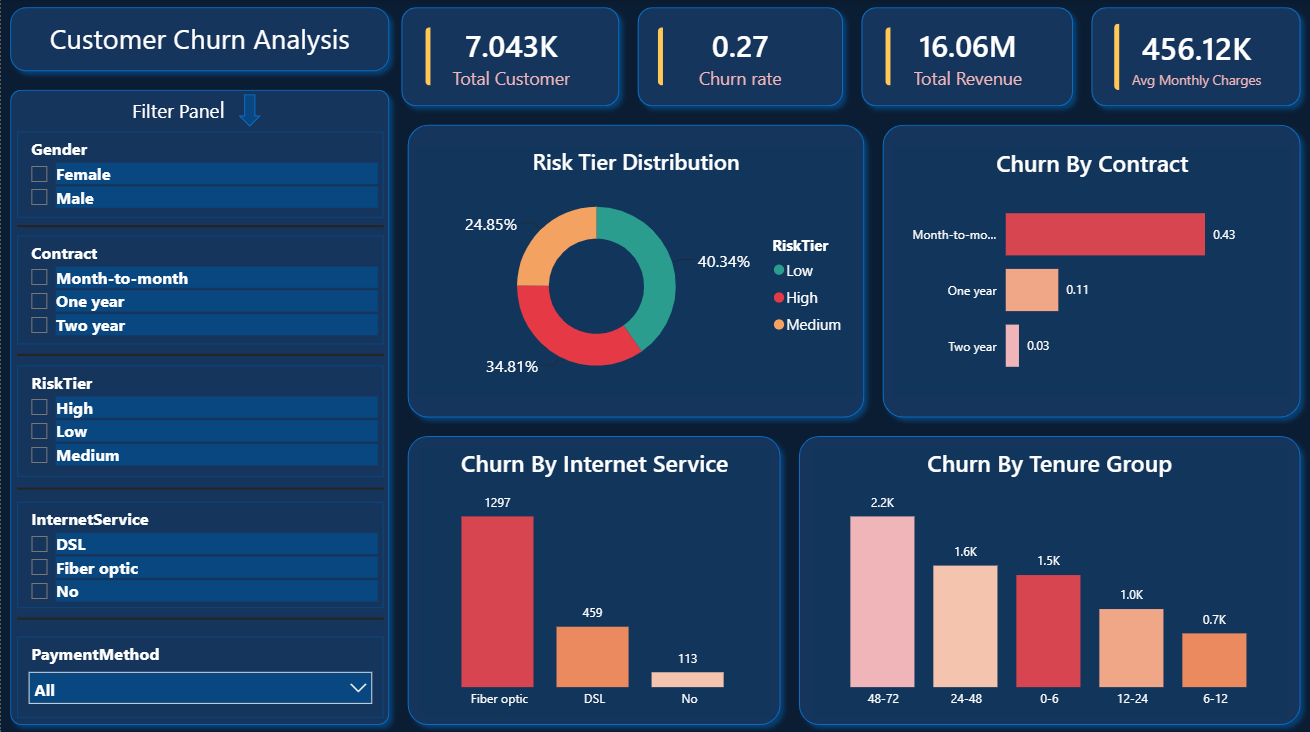

What the dashboard file says about the page in this screenshot:
{"tool":"powerbi","page":{"name":"Page 1","canvas":[1280,720],"ordinal":0},"visuals":[{"type":"shape","box":[0,1.2,1280.3,99],"z":0},{"type":"textbox","box":[8.6,12.2,1215.5,79.5],"z":1000},{"type":"cardVisual","fields":{"Data":["CountNonNull(Sheet.customerID)","Avg(Sheet.Churn_flag)","Sum(Sheet.Customer_value)","Avg(Sheet.MonthlyCharges)"]},"box":[0,100.3,1277.9,112.5],"z":2000},{"type":"clusteredBarChart","title":"Churn By Contract","fields":{"Y":["Avg(Sheet.Churn_flag)"],"Category":["Sheet.Contract"]},"box":[269,212.8,430.4,217.7],"z":3000},{"type":"columnChart","title":"Churn By Internet Service","fields":{"Category":["Sheet.InternetService"],"Y":["Sum(Sheet.Churn_flag)"]},"box":[699.5,212.8,273.9,217.7],"z":4000},{"type":"donutChart","title":"Risk Tier Distribution","fields":{"Category":["Sheet.RiskTier"],"Y":["CountNonNull(Sheet.customerID)"]},"box":[0,212.8,271.5,217.7],"z":5000},{"type":"columnChart","title":"Churn By Tenure Group","fields":{"Y":["Avg(Sheet.Churn_flag)"],"Category":["Sheet.tenure"]},"box":[0,430.4,465.9,289.8],"z":6000},{"type":"slicer","fields":{"Values":["Sheet.Contract"]},"box":[1082.2,212.8,195.7,126],"z":8000},{"type":"slicer","fields":{"Values":["Sheet.gender"]},"box":[969.7,212.8,112.5,126],"z":9000},{"type":"slicer","fields":{"Values":["Sheet.InternetService"]},"box":[1123.8,338.7,154.1,106.4],"z":10000},{"type":"slicer","fields":{"Values":["Sheet.RiskTier"]},"box":[973.4,338.7,154.1,106.4],"z":11000},{"type":"slicer","fields":{"Values":["Sheet.PaymentMethod"]},"box":[969.7,445.1,308.2,146.7],"z":12000},{"type":"scatterChart","title":"Monthly Charges vs Customer Value","fields":{"X":["Sheet.MonthlyCharges"],"Y":["Sheet.Customer_value"],"Series":["Sheet.Churn"]},"box":[465.9,430.4,507.5,289.8],"z":13000},{"type":"cardVisual","fields":{"Data":["Sheet.Retention_Rate"]},"box":[973.4,591.9,306.9,128.4],"z":14000}]}

Visuals, with their boxes in screenshot pixels (x1, y1, x2, y2), scaled from the page's 1280x720 canvas onto the 1310x732 screenshot:
shape: [0,1,1309,102]
textbox: [9,12,1253,93]
cardVisual - CountNonNull(Sheet.customerID) x Avg(Sheet.Churn_flag): [0,102,1308,216]
"Churn By Contract" clusteredBarChart: [275,216,716,438]
"Churn By Internet Service" columnChart: [716,216,996,438]
"Risk Tier Distribution" donutChart: [0,216,278,438]
"Churn By Tenure Group" columnChart: [0,438,477,731]
slicer - Sheet.Contract: [1108,216,1308,344]
slicer - Sheet.gender: [992,216,1108,344]
slicer - Sheet.InternetService: [1150,344,1308,453]
slicer - Sheet.RiskTier: [996,344,1154,453]
slicer - Sheet.PaymentMethod: [992,453,1308,602]
"Monthly Charges vs Customer Value" scatterChart: [477,438,996,731]
cardVisual - Sheet.Retention_Rate: [996,602,1309,731]
